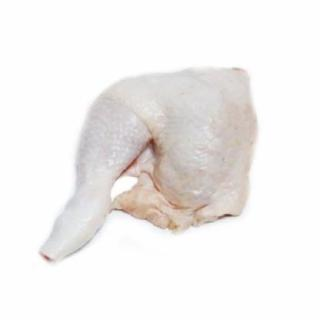Ayam: (42, 67, 259, 265)
